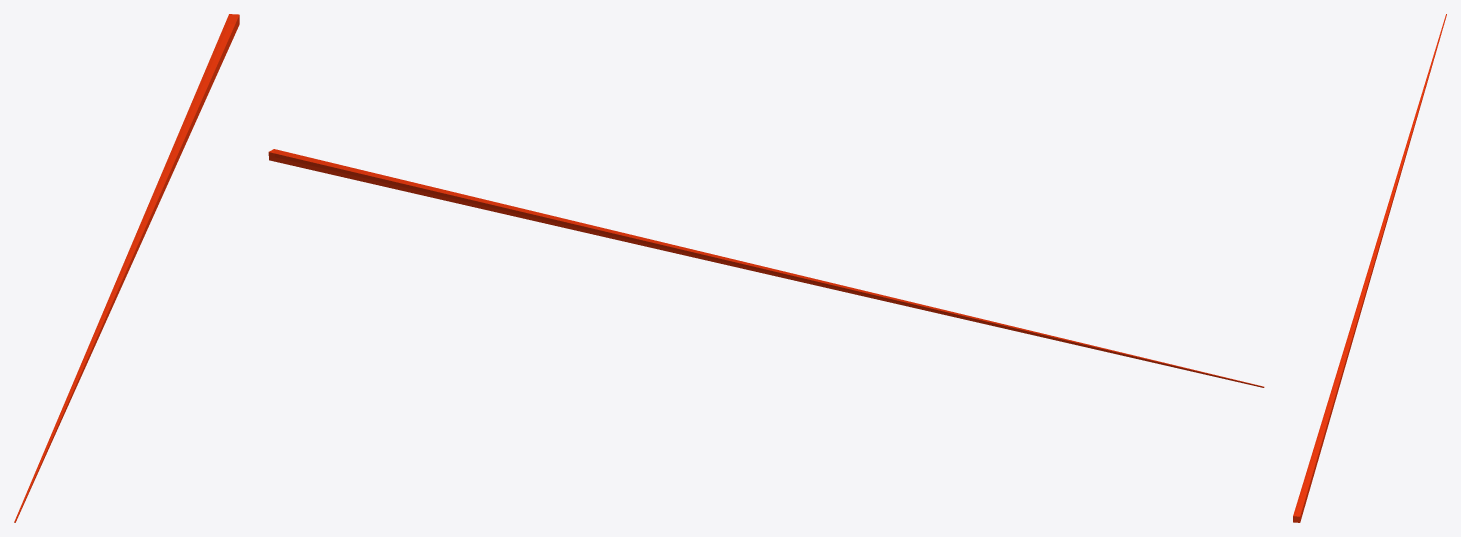
Rendered from Event_420107950_EErechit_81.fbx.
The picture shows the model from 3 angles, left to right: view 1: azimuth 90°, elevation 25°; view 2: azimuth 150°, elevation 25°; view 3: azimuth 270°, elevation 25°; orthographic projection. The views are drawn at different scales.
Parts seen in each view (by area): view 1: Model; view 2: Model; view 3: Model.
Part boxes in pixels (x1=…): Model: x1=14, y1=14, x2=239, y2=522; Model: x1=268, y1=149, x2=1264, y2=387; Model: x1=1293, y1=14, x2=1446, y2=522.
Size of the model in its own units: 86.12 by 7.98 by 13.19.
